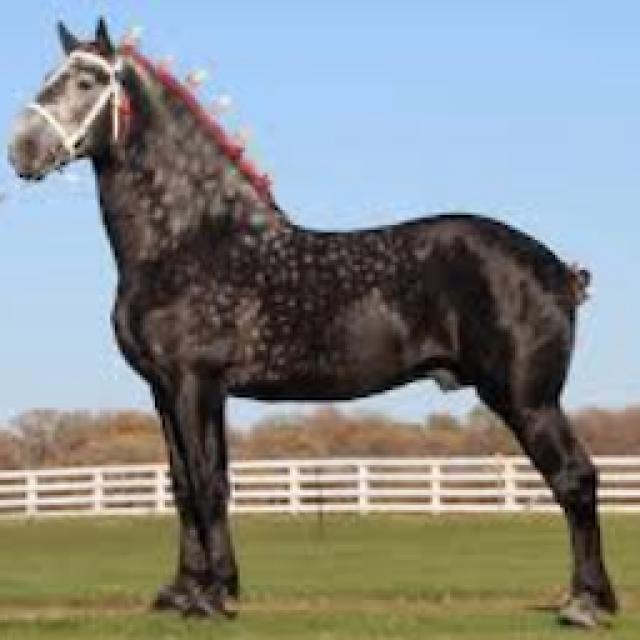Horse: (0, 10, 632, 635)
